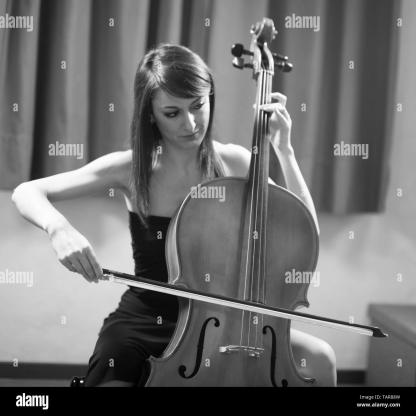bad: (33, 218, 108, 290)
